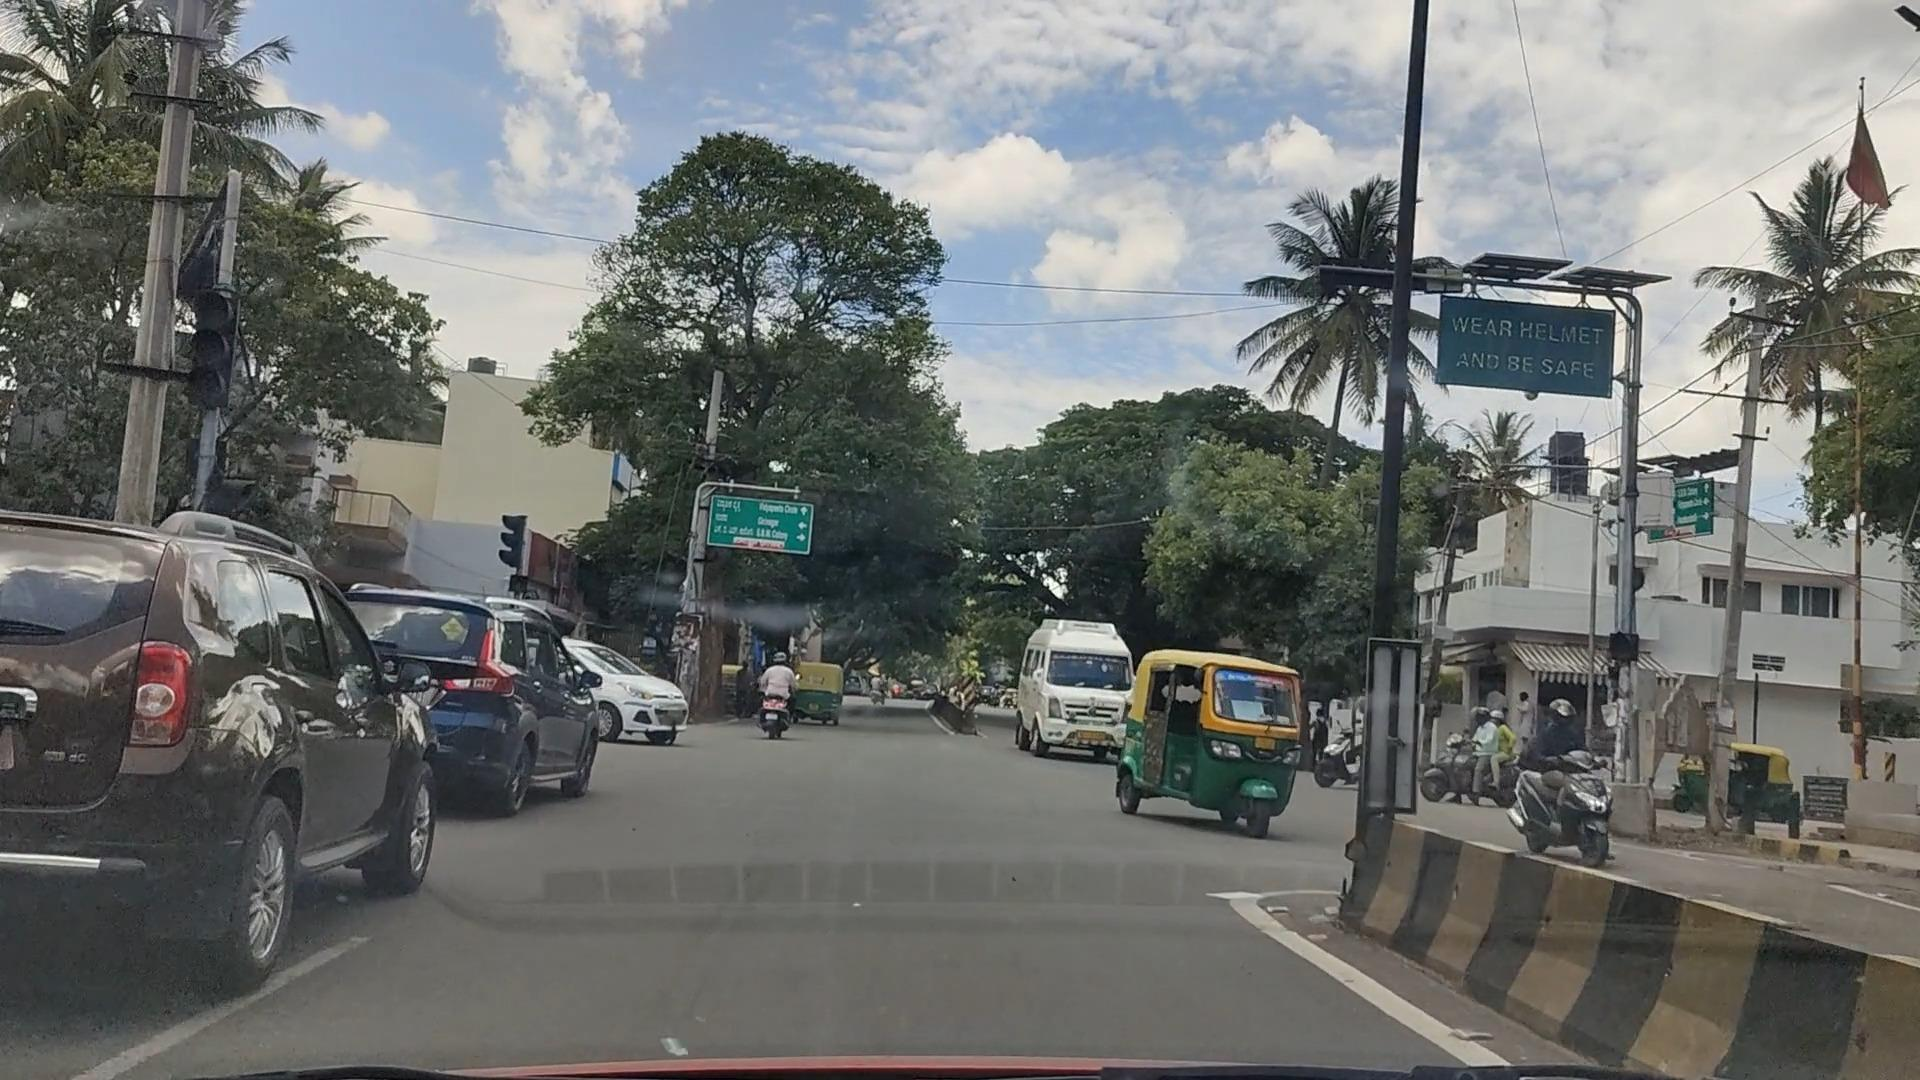LMV: (25, 501, 451, 1002), (360, 578, 608, 816)
